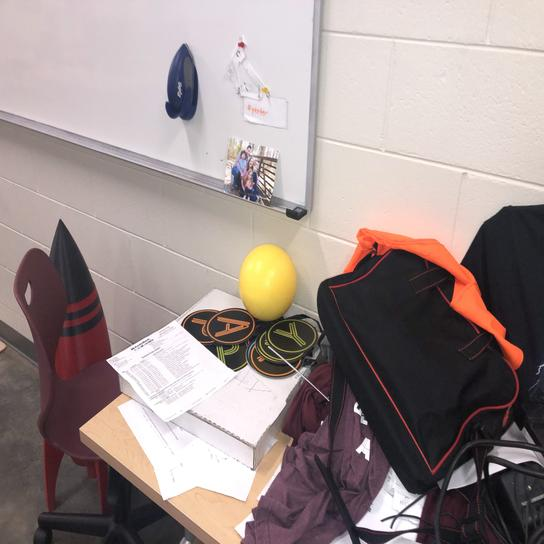ball: (235, 240, 299, 322)
